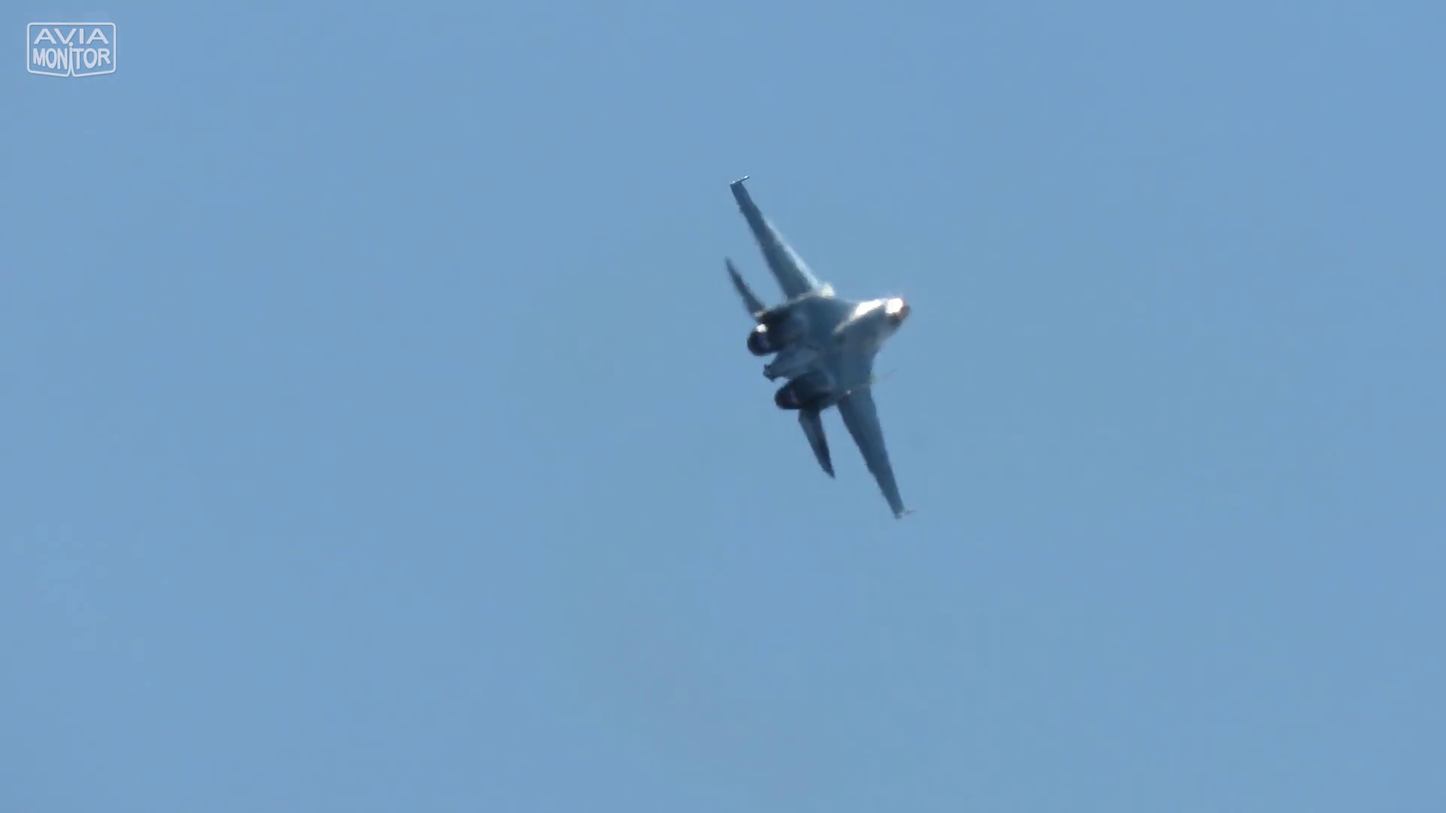Su35: (708, 162, 930, 534)
